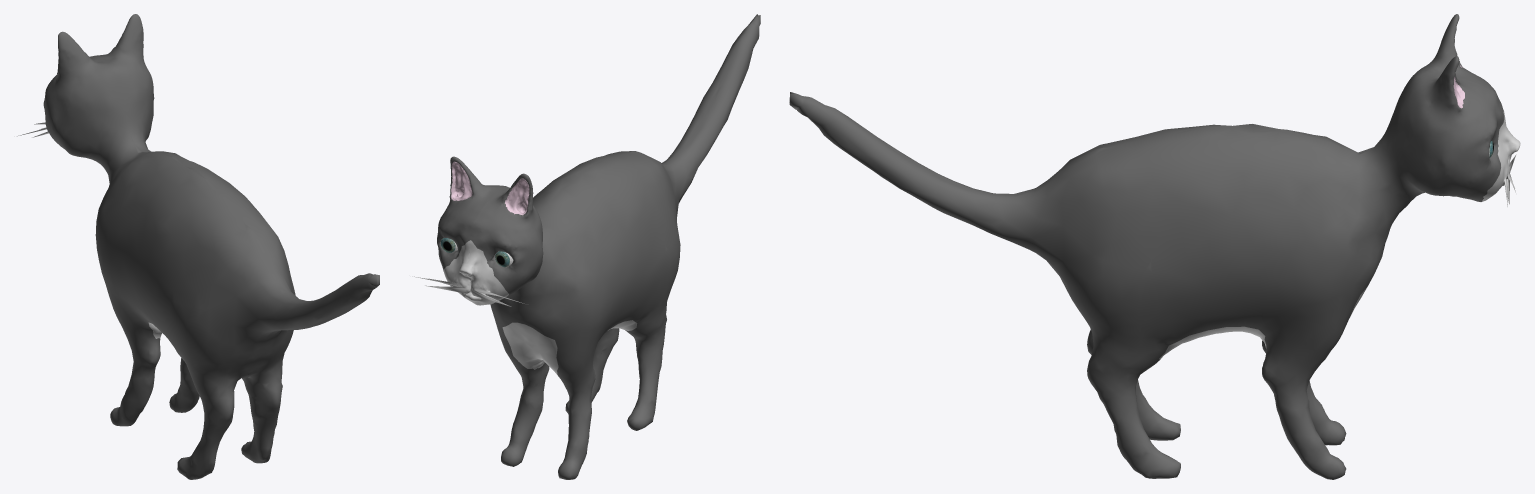
The model's file is PetRaceModel3.fbx.
3 views of the same model, side by side, from view 1: azimuth 30°, elevation 25°; view 2: azimuth 150°, elevation 25°; view 3: azimuth 270°, elevation 25° (orthographic). The views are drawn at different scales.
Visible parts, largest first — view 1: Gray Cat; view 2: Gray Cat, Eyes.004; view 3: Gray Cat.
Boxes of the visible parts, x1=… form: Gray Cat: x1=17, y1=14, x2=379, y2=479; Gray Cat: x1=412, y1=14, x2=760, y2=479; Eyes.004: x1=440, y1=238, x2=513, y2=267; Gray Cat: x1=789, y1=14, x2=1520, y2=479.
Bounding box in the file's own units: 225 × 606 × 946.
